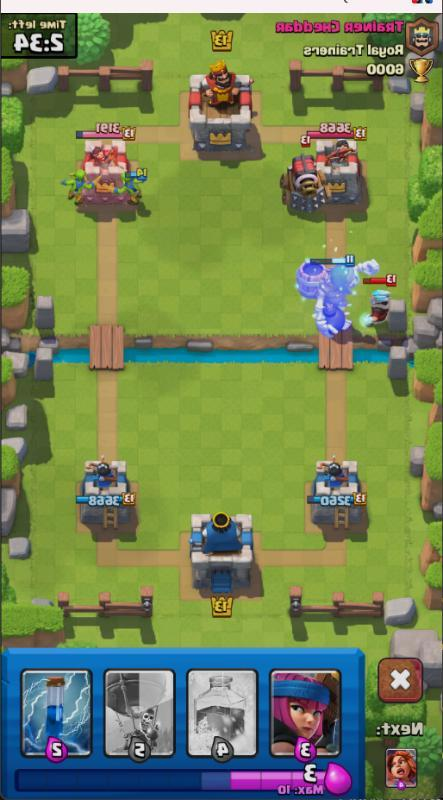enemy_ice_wizard: (357, 277, 400, 333)
enemy_sparky: (277, 154, 329, 213)
player_giant_skeleton: (283, 248, 389, 346)
